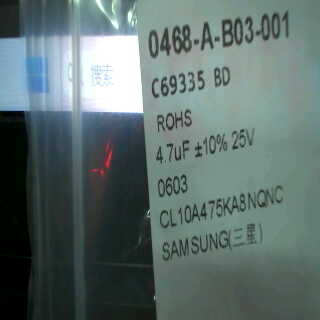4.7uF: (152, 136, 194, 170)
